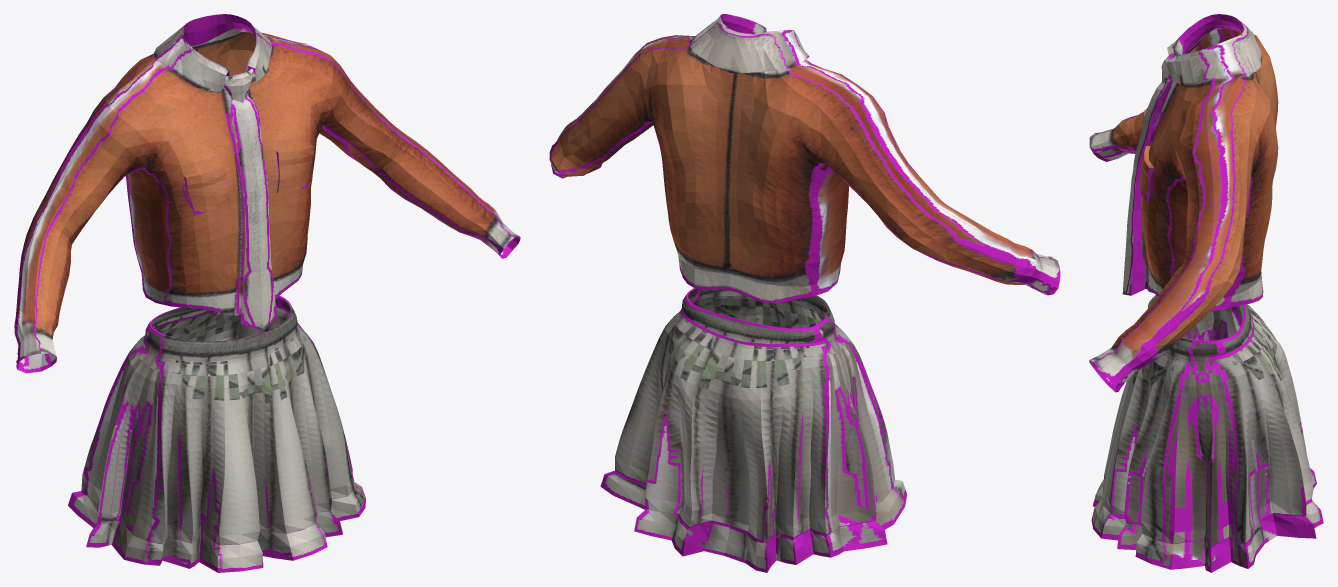
The picture shows the model from 3 angles, left to right: view 1: azimuth 30°, elevation 25°; view 2: azimuth 150°, elevation 25°; view 3: azimuth 270°, elevation 25°; orthographic projection. The views are drawn at different scales.
Bounding box in the file's own units: 1.15 × 1.1 × 0.4696.
1 material, 1 textured.
